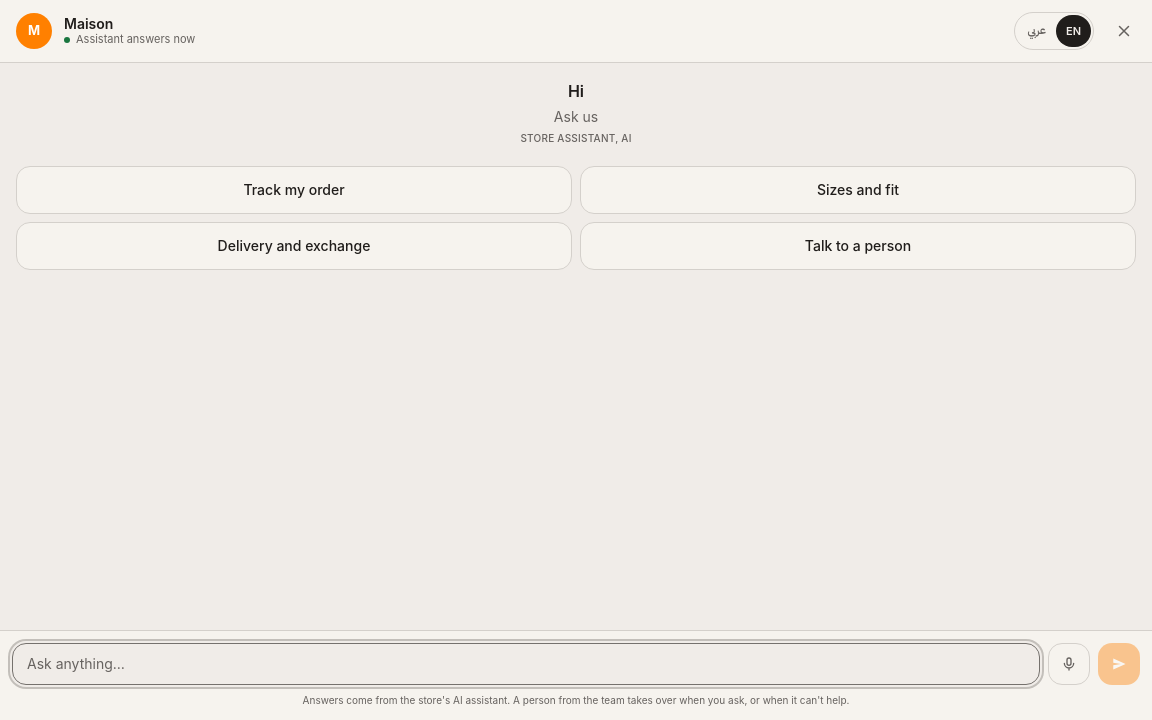
Scenario: the order lookup in the v16 panel › opens the form from Track my order instead of asking the model
(page scrolled)
Click the button "Track my order" at (294, 190), box [16, 166, 572, 214]
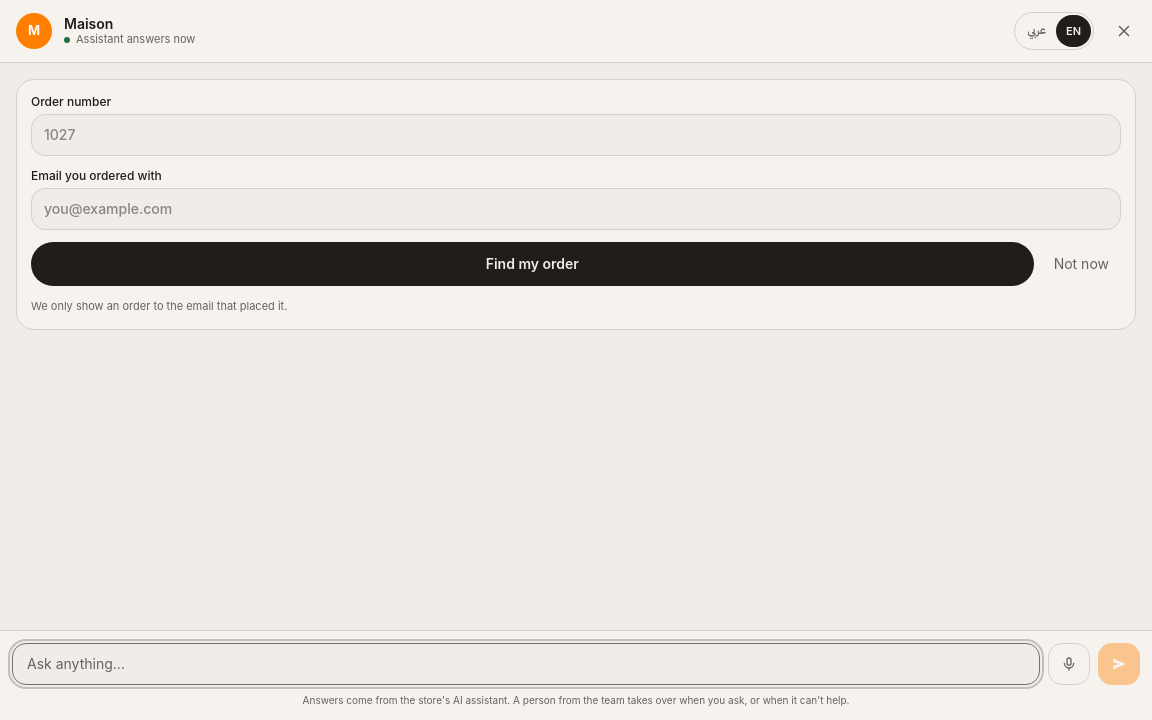
Result: the field labelled "Order number" is shown at [31, 114, 1121, 156]
Result: the field labelled "Email you ordered with" is shown at [31, 188, 1121, 230]
Result: the text "We only show an order to the email that placed it." is shown at [31, 299, 287, 313]
